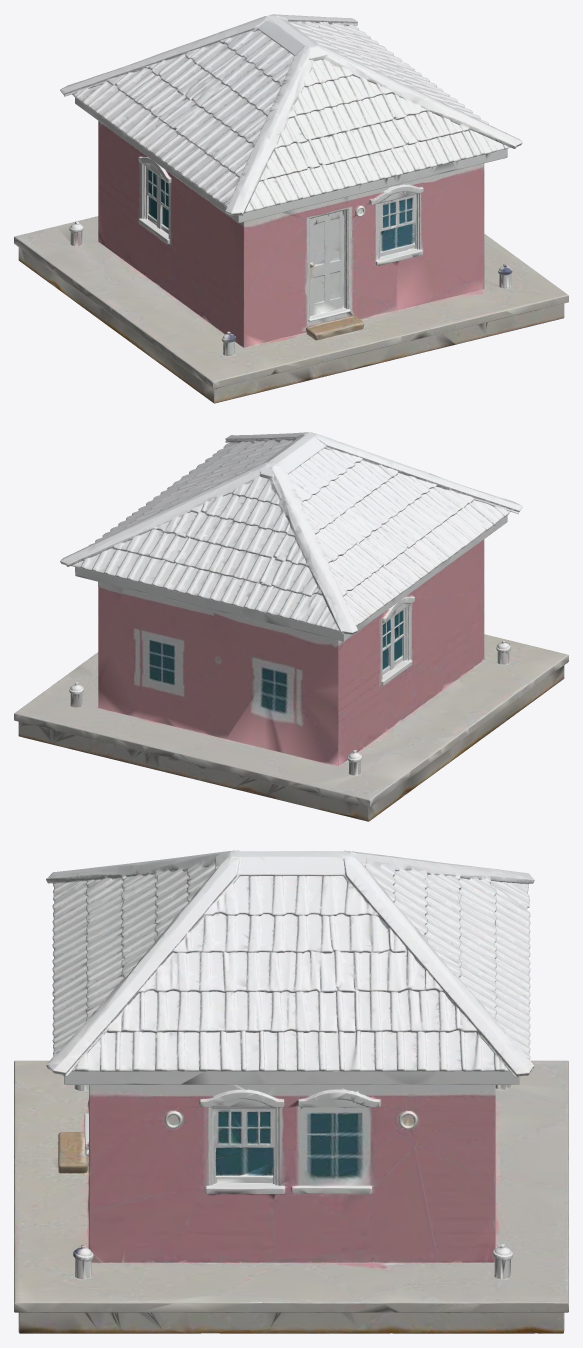
File: bermuda-house-a.glb
3 renders of one model, top to bottom at view 1: azimuth 30°, elevation 25°; view 2: azimuth 150°, elevation 25°; view 3: azimuth 270°, elevation 25°, orthographic. The views are drawn at different scales.
Size of the model in its own units: 1.9 by 1.32 by 1.84.
Materials: 1 (1 with a texture image).
